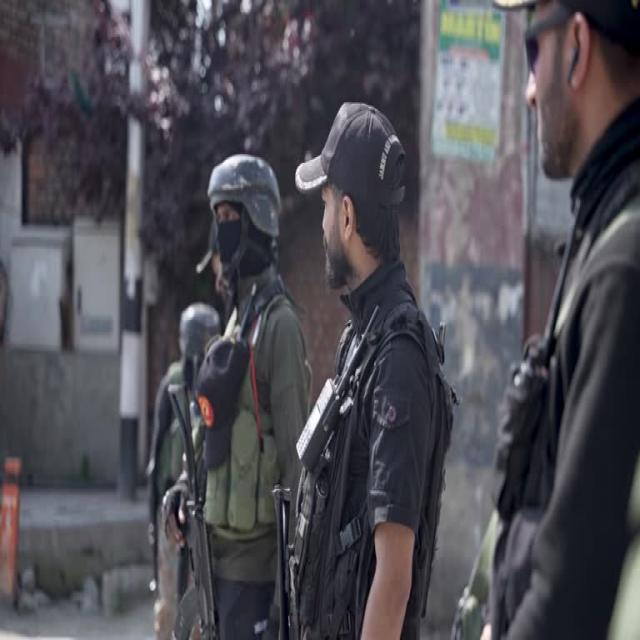Militant: (471, 0, 640, 640), (287, 93, 445, 640), (158, 138, 313, 640)
